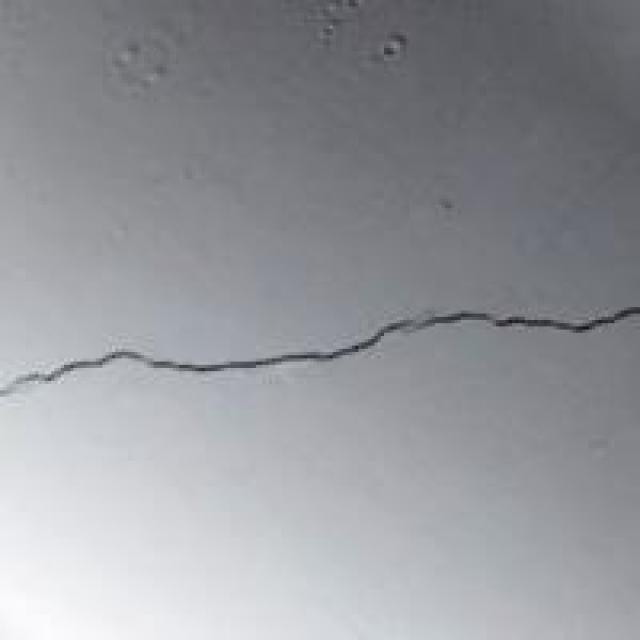crack: (0, 234, 637, 419)
